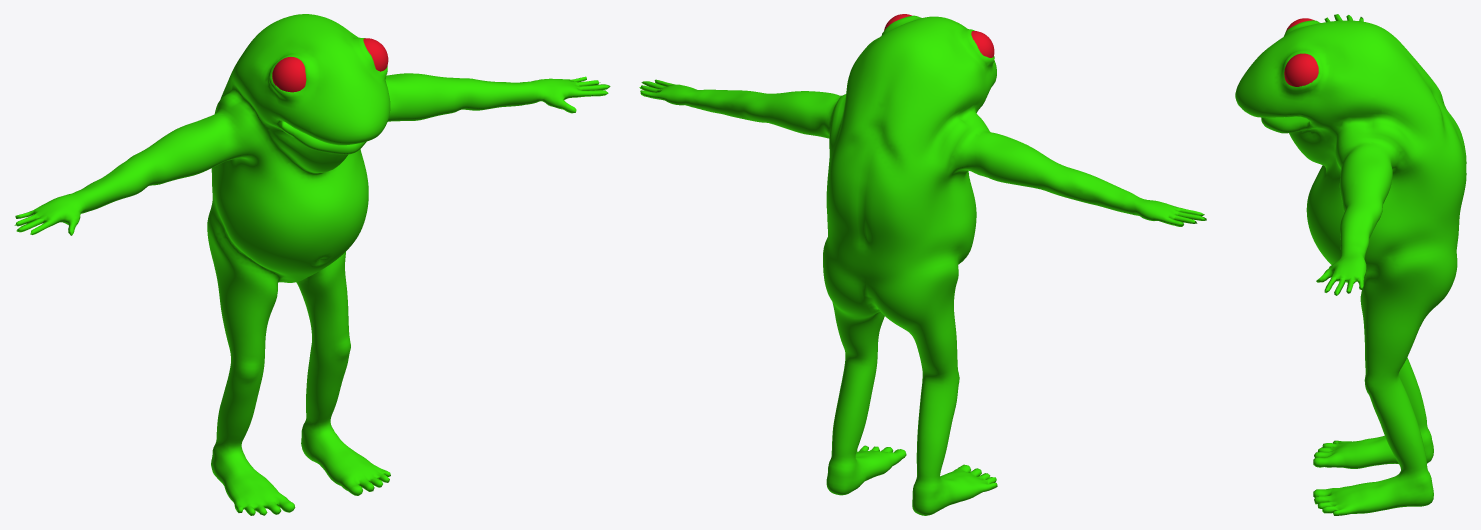
File: Froggy_UV.fbx
The picture shows the model from 3 angles, left to right: view 1: azimuth 30°, elevation 25°; view 2: azimuth 150°, elevation 25°; view 3: azimuth 270°, elevation 25°; orthographic projection. The views are drawn at different scales.
Parts seen in each view (by area): view 1: Froggy.002, Eyes; view 2: Froggy.002; view 3: Froggy.002, Eyes.
Part boxes in pixels (x1,y1,x2,y2): Froggy.002: [14, 14, 610, 515]; Eyes: [272, 38, 388, 92]; Froggy.002: [639, 15, 1206, 515]; Froggy.002: [1235, 14, 1466, 515]; Eyes: [1284, 18, 1318, 86].
Size of the model in its own units: 50.09 by 38.12 by 17.39.
